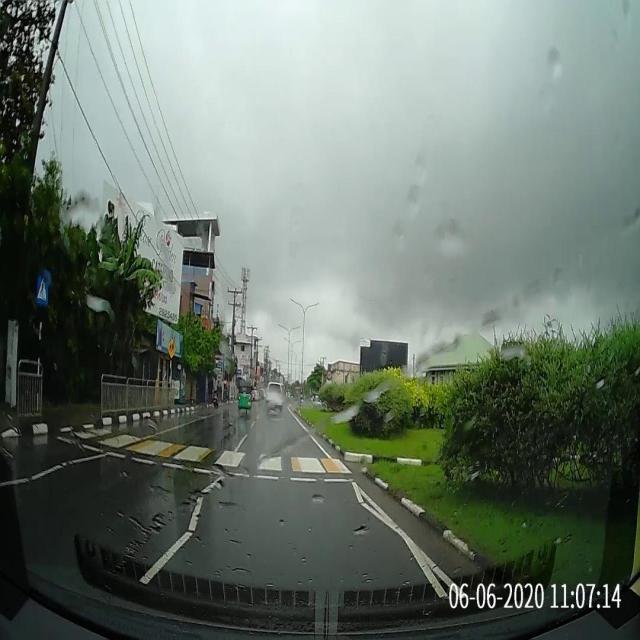Liniya 1: (399, 528, 447, 597), (401, 531, 448, 598), (140, 531, 195, 584), (357, 484, 402, 529), (0, 464, 64, 488), (360, 503, 402, 536), (422, 552, 454, 589), (308, 435, 332, 458), (188, 498, 204, 531), (62, 454, 105, 466), (201, 476, 224, 493), (292, 415, 309, 437), (352, 482, 363, 504)
Perehod: (69, 425, 355, 476)
